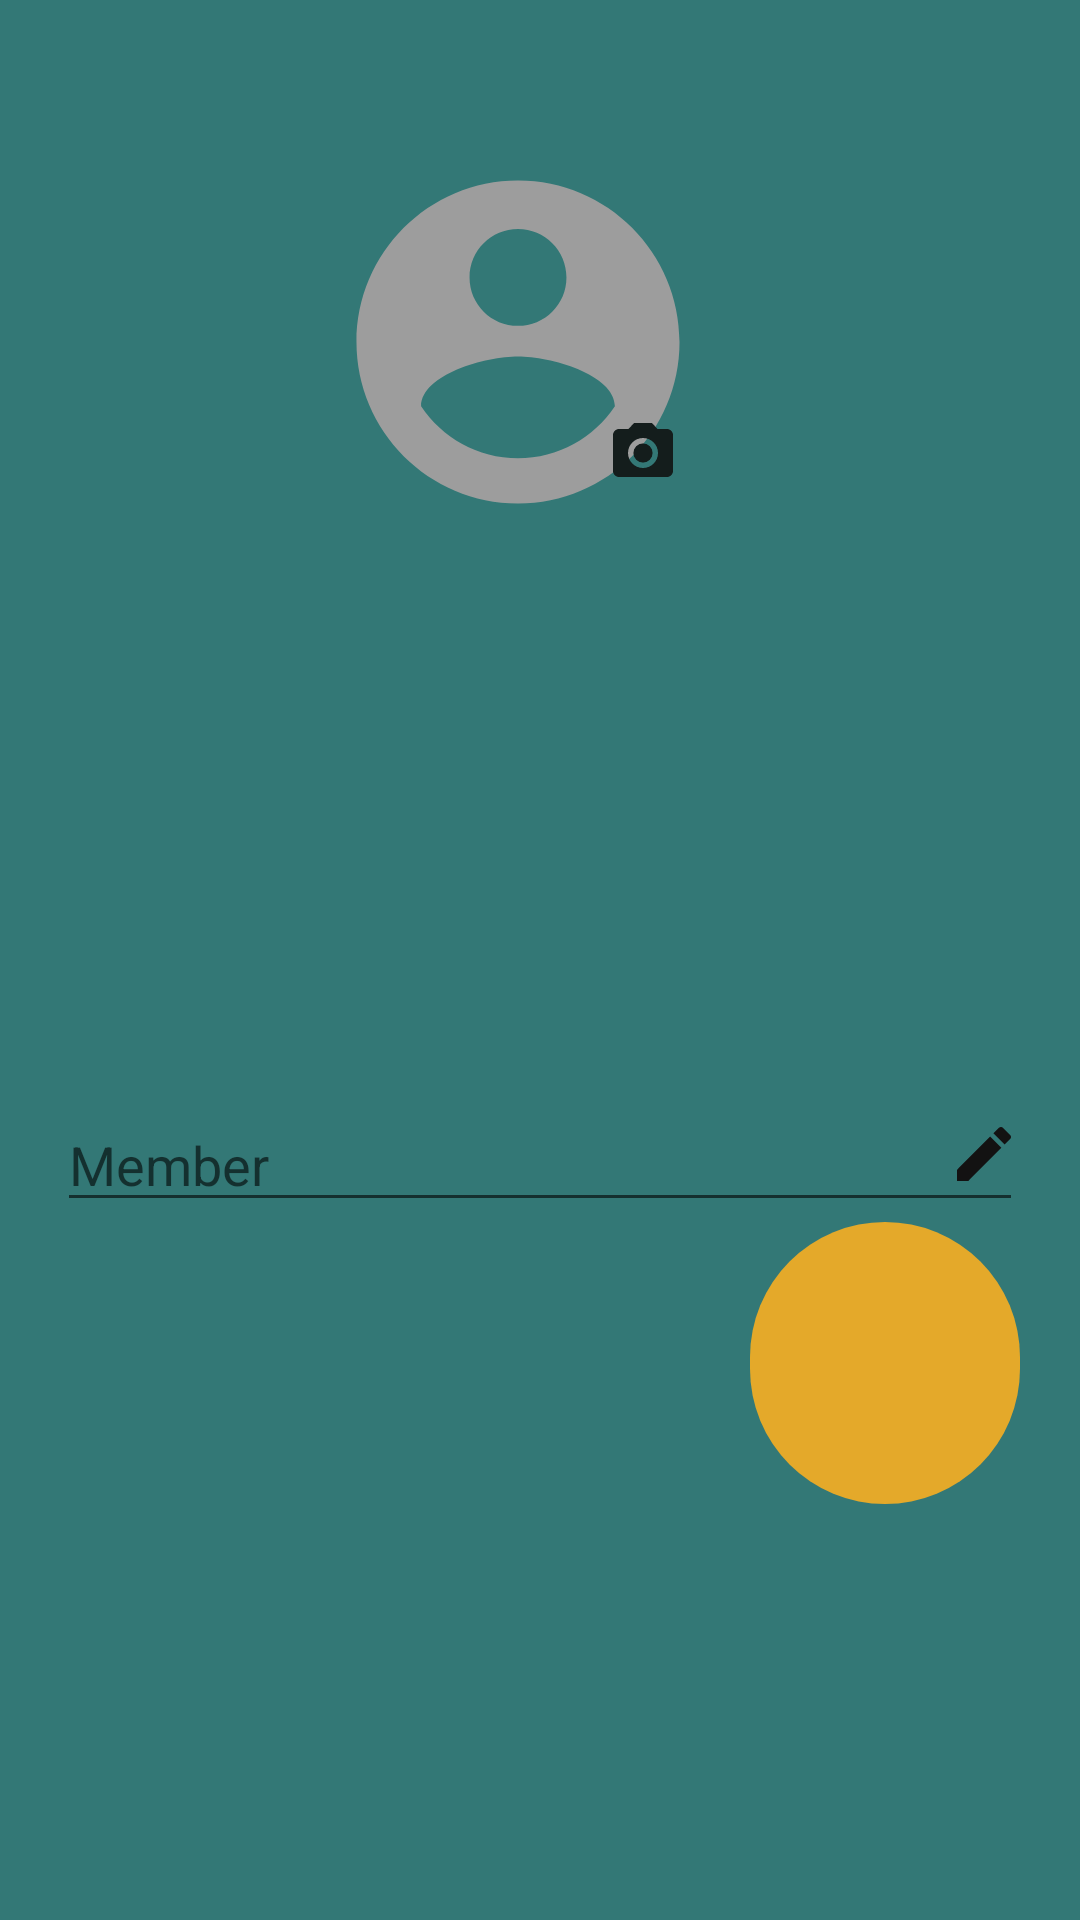

Named icons in this screenshot (1080 × 1920) and their bounding boxes, bbox=(x1, y1, x2, y2):
edit: bbox=(957, 1127, 1011, 1181)
